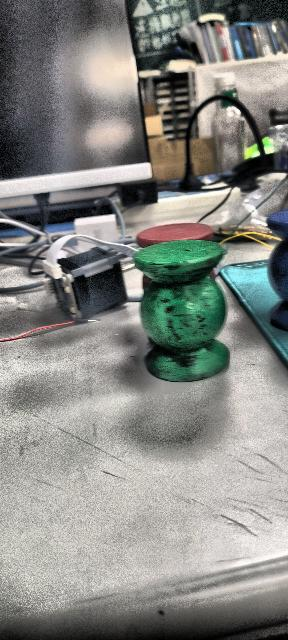green: (129, 238, 234, 386)
red: (135, 223, 226, 281)
